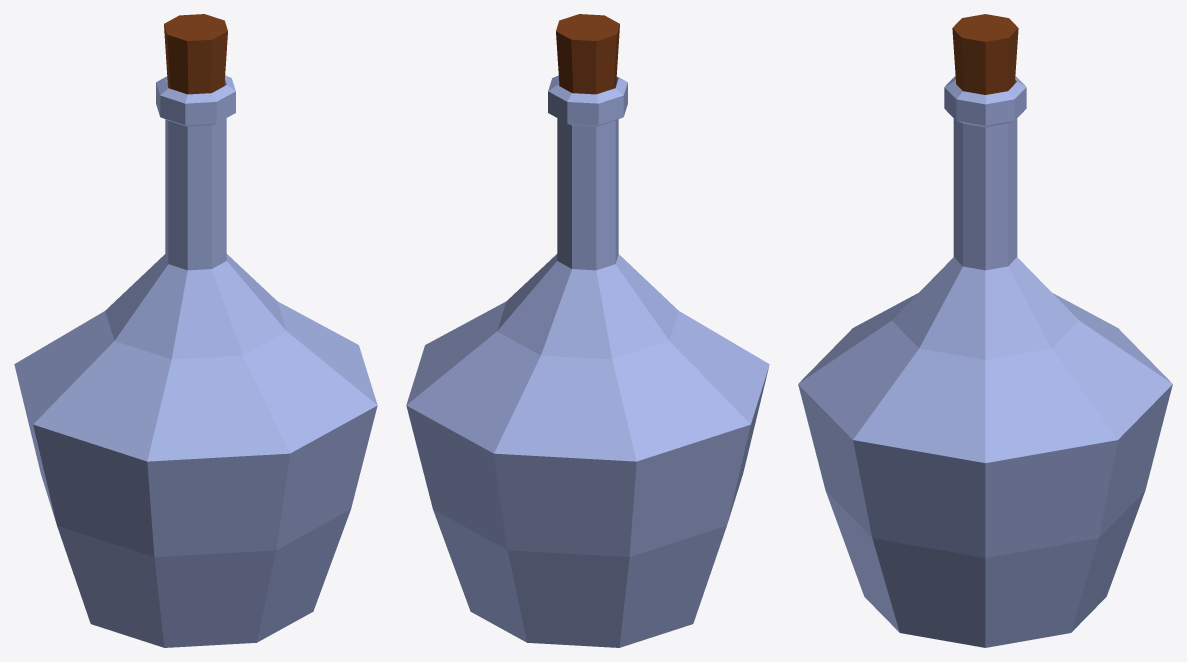
File: PorcaoF.fbx
3 renders of one model, left to right at view 1: azimuth 30°, elevation 25°; view 2: azimuth 150°, elevation 25°; view 3: azimuth 270°, elevation 25°, orthographic.
Parts seen in each view (by area): view 1: Cylinder; view 2: Cylinder; view 3: Cylinder.
Boxes of the visible parts, left/top/right/bottom form: Cylinder: left=14, top=14, right=377, bottom=647; Cylinder: left=406, top=14, right=769, bottom=647; Cylinder: left=798, top=14, right=1172, bottom=647.
Size of the model in its own units: 72.09 by 121 by 72.09.
